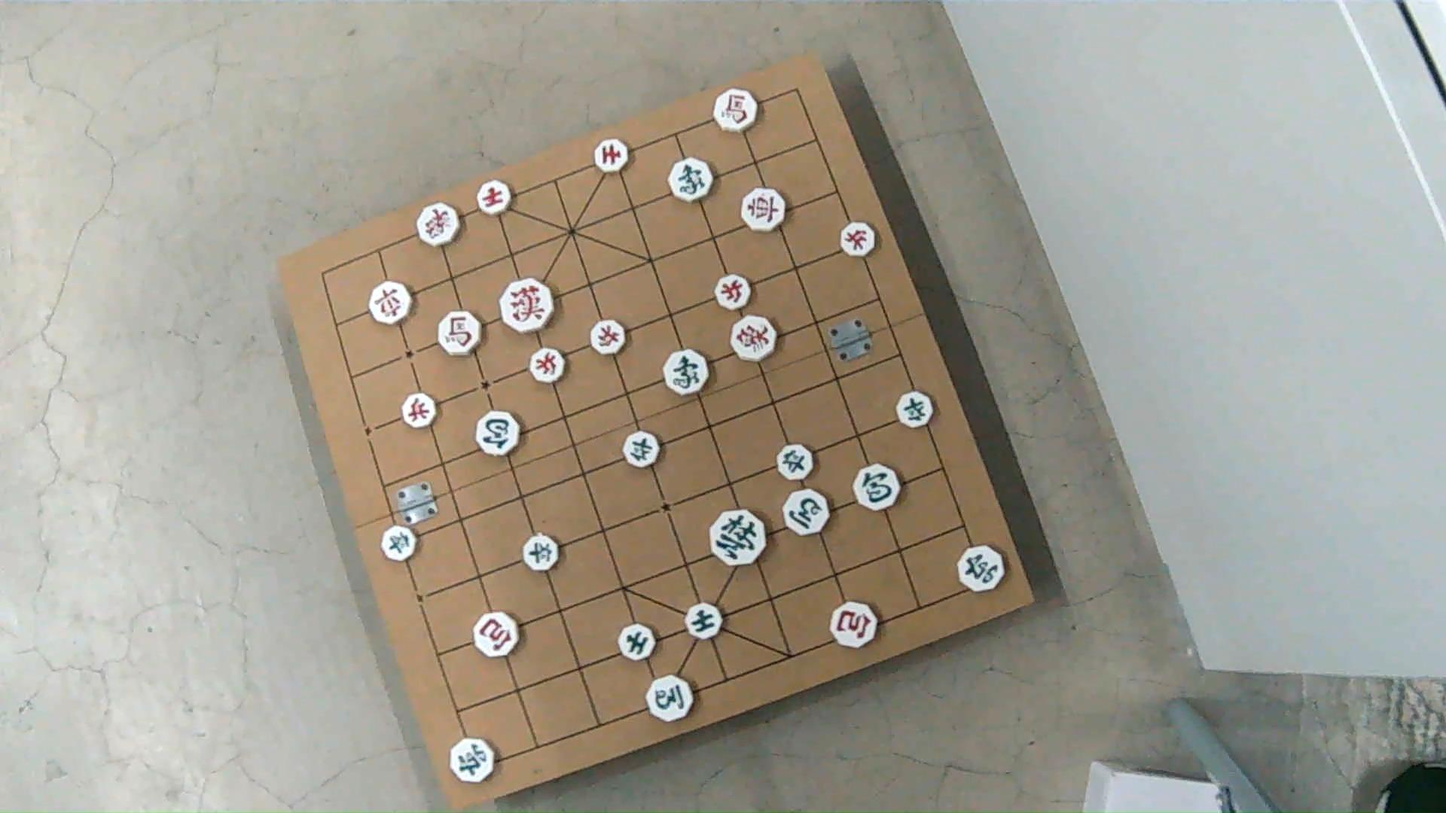cha_green: (448, 738, 499, 785), (956, 545, 1006, 591)
cha_red: (370, 283, 415, 326), (741, 187, 786, 230)
jol_green: (777, 443, 817, 481), (379, 524, 419, 562), (521, 532, 560, 570), (894, 390, 932, 427), (624, 430, 660, 467)
jol_red: (714, 274, 752, 310), (590, 320, 627, 356), (529, 347, 565, 382), (402, 394, 438, 429), (838, 224, 875, 258)
ma_green: (645, 674, 695, 722), (782, 489, 829, 534)
ma_red: (710, 89, 759, 135), (440, 312, 484, 358)
po_green: (855, 464, 903, 510), (474, 412, 520, 458)
po_red: (829, 600, 881, 648), (472, 613, 521, 659)
sa_green: (682, 603, 721, 641), (620, 624, 659, 662)
sa_red: (474, 178, 515, 215), (594, 136, 634, 172)
sang_green: (663, 350, 709, 396), (666, 159, 711, 203)
sang_red: (730, 316, 776, 362), (417, 202, 459, 246)
wang_green: (709, 509, 766, 566)
wang_red: (502, 280, 557, 334)
